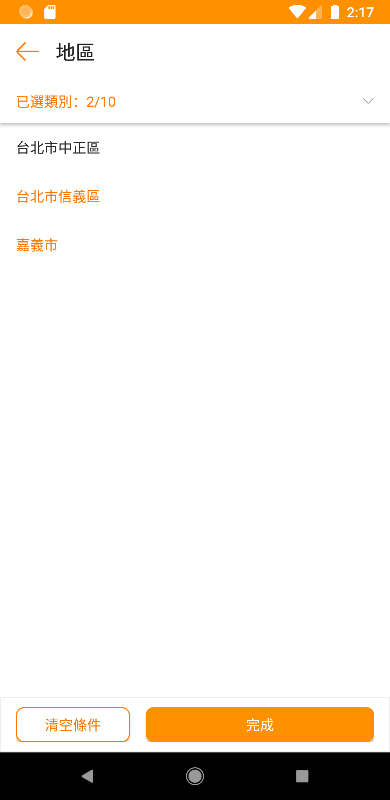button: (143, 703, 383, 746), (12, 700, 133, 749), (12, 36, 46, 69), (351, 86, 380, 112)
